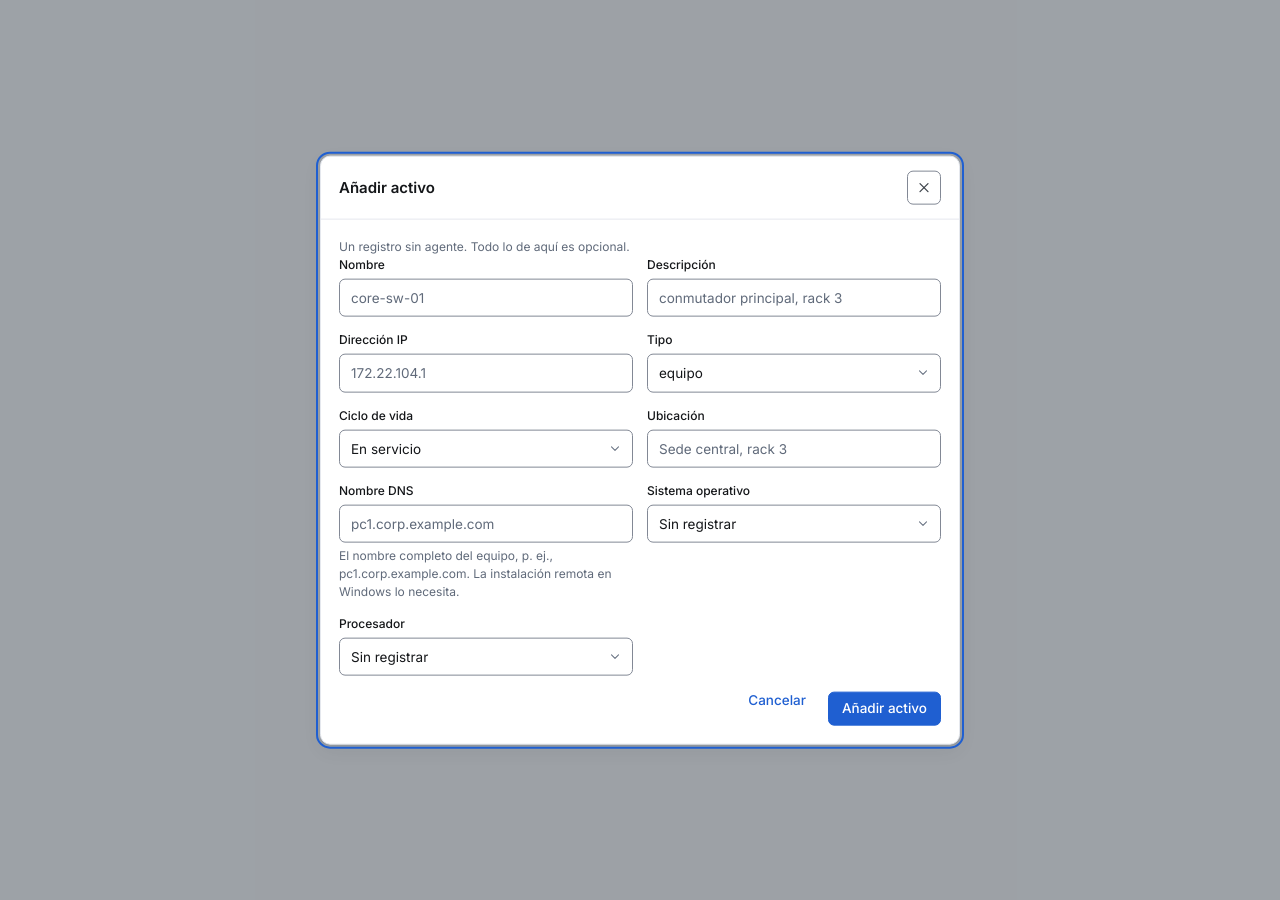
Test: the asset and push dialogs in Spanish › words the add-asset dialog, its selects and a failed save
Expected: the text "Un registro sin agente. Todo lo de aquí es opcional." is shown, x1=339 y1=239 x2=630 y2=254
Expected: the field labelled "Nombre" is shown, x1=339 y1=279 x2=633 y2=317
In the field labelled "Descripción": (794,298) x1=647 y1=279 x2=941 y2=317, type "caja"
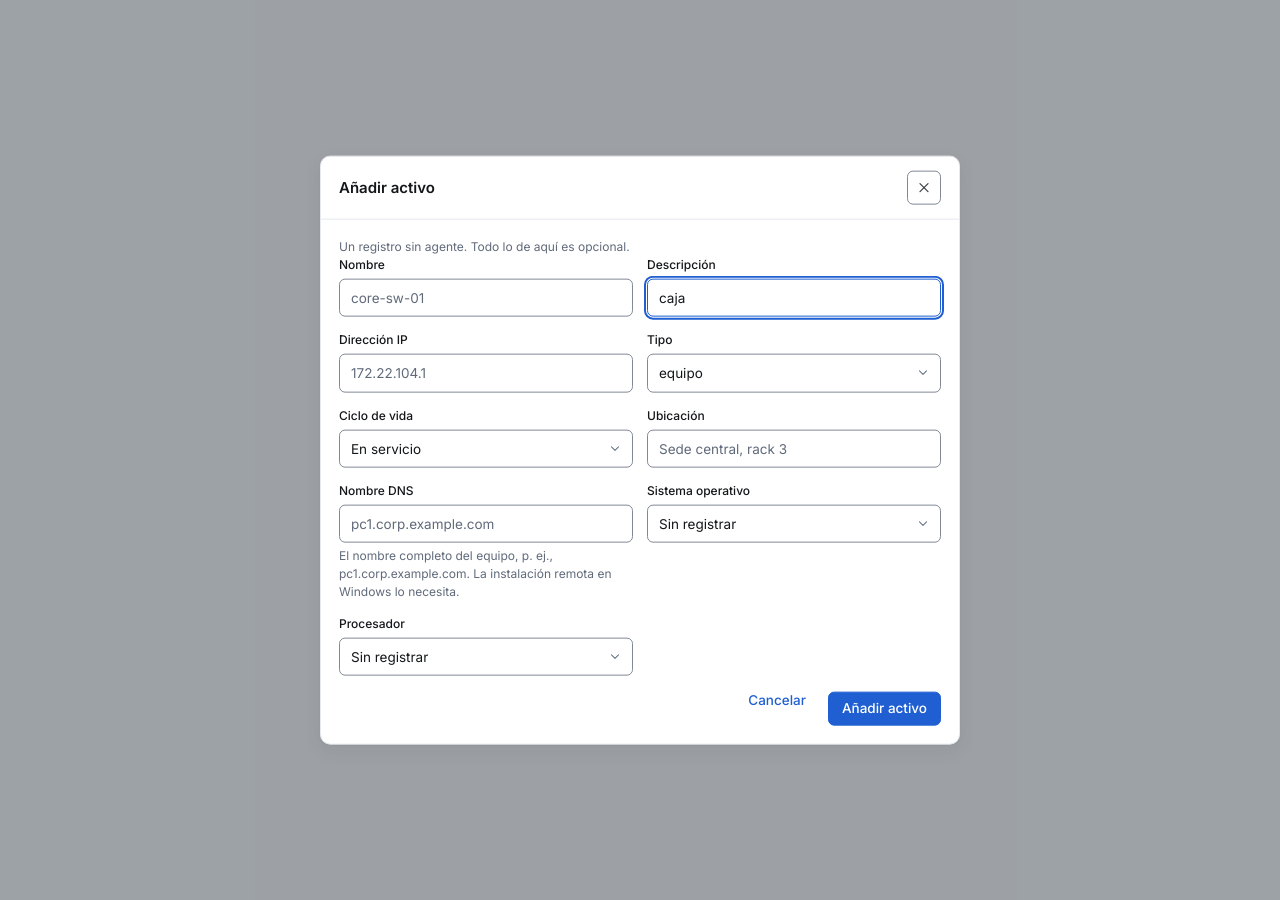
Click the button "Añadir activo": (884,709) x1=828 y1=692 x2=941 y2=725
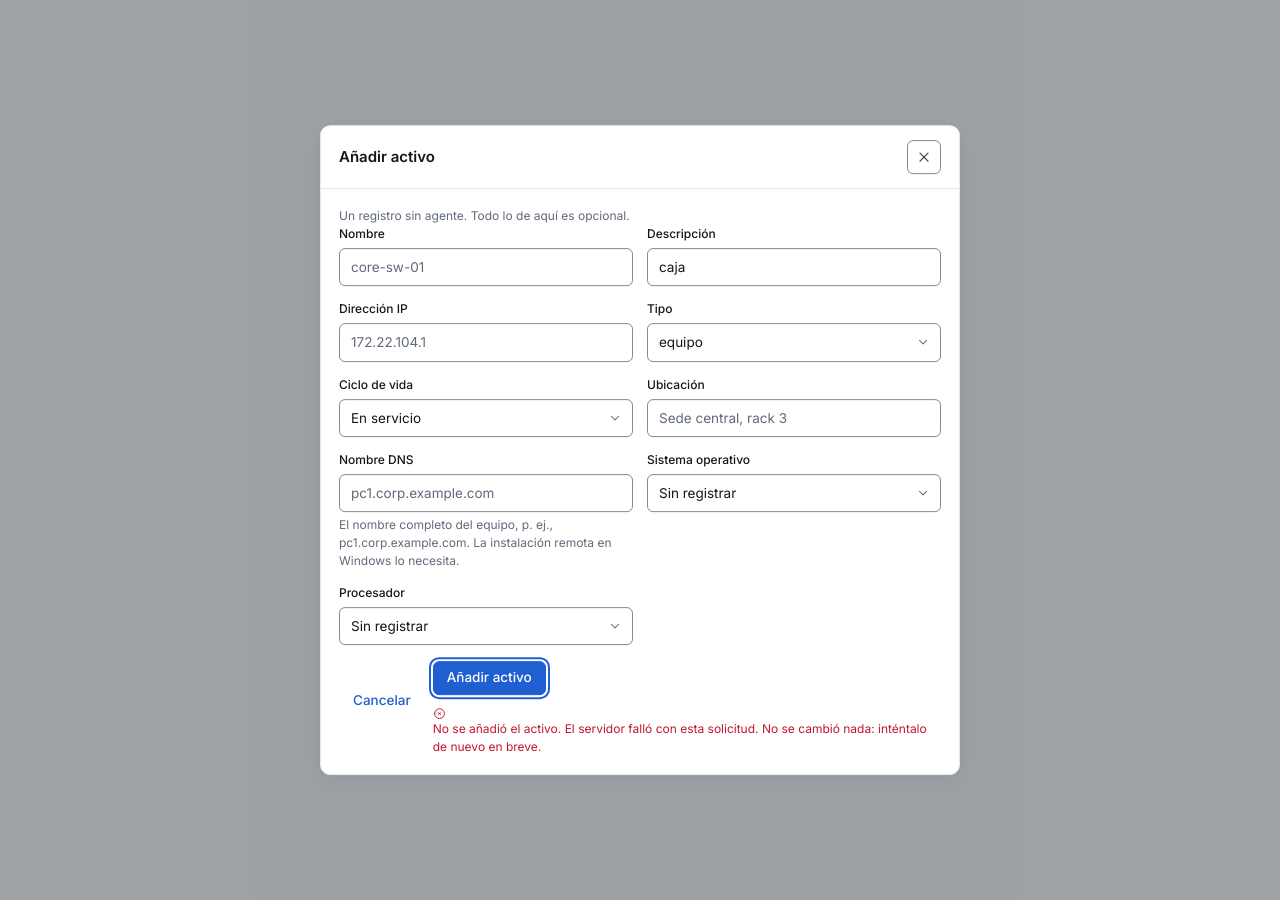
Expected: the text "No se añadió el activo." is shown, x1=433 y1=721 x2=565 y2=736
